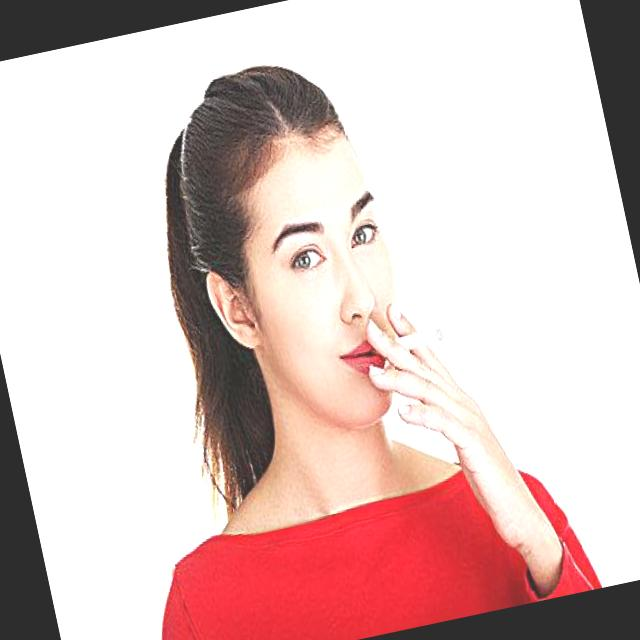smoke: (366, 322, 448, 367)
